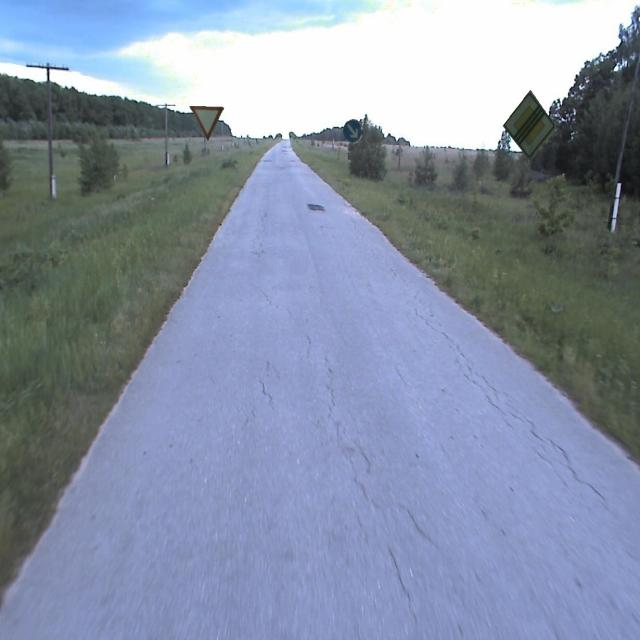road: (0, 140, 639, 639)
